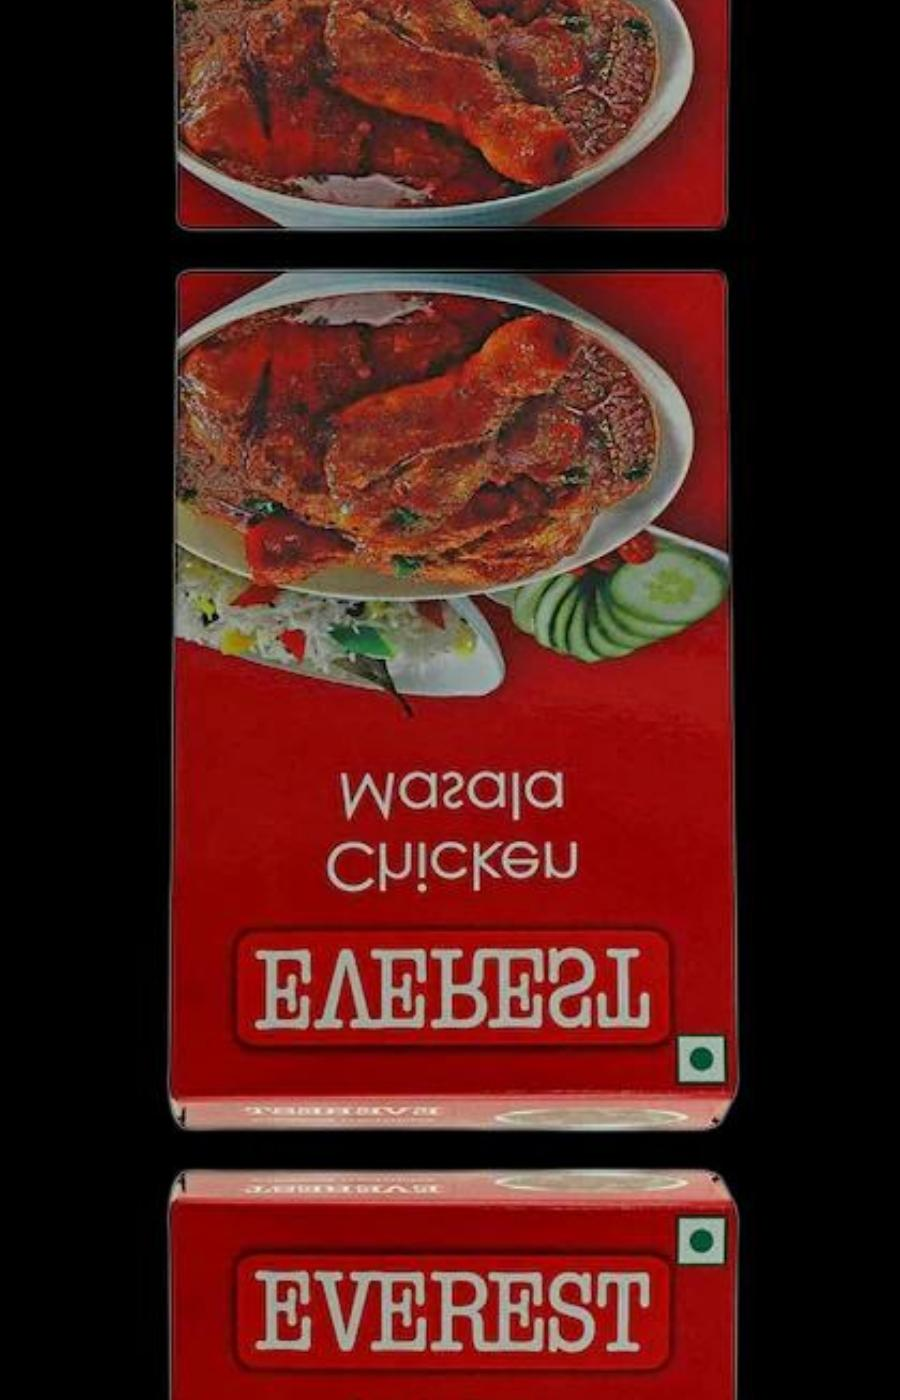Everest Chicken Masala 50 g: (161, 263, 745, 1143), (161, 1158, 745, 1400), (161, 0, 745, 237)
